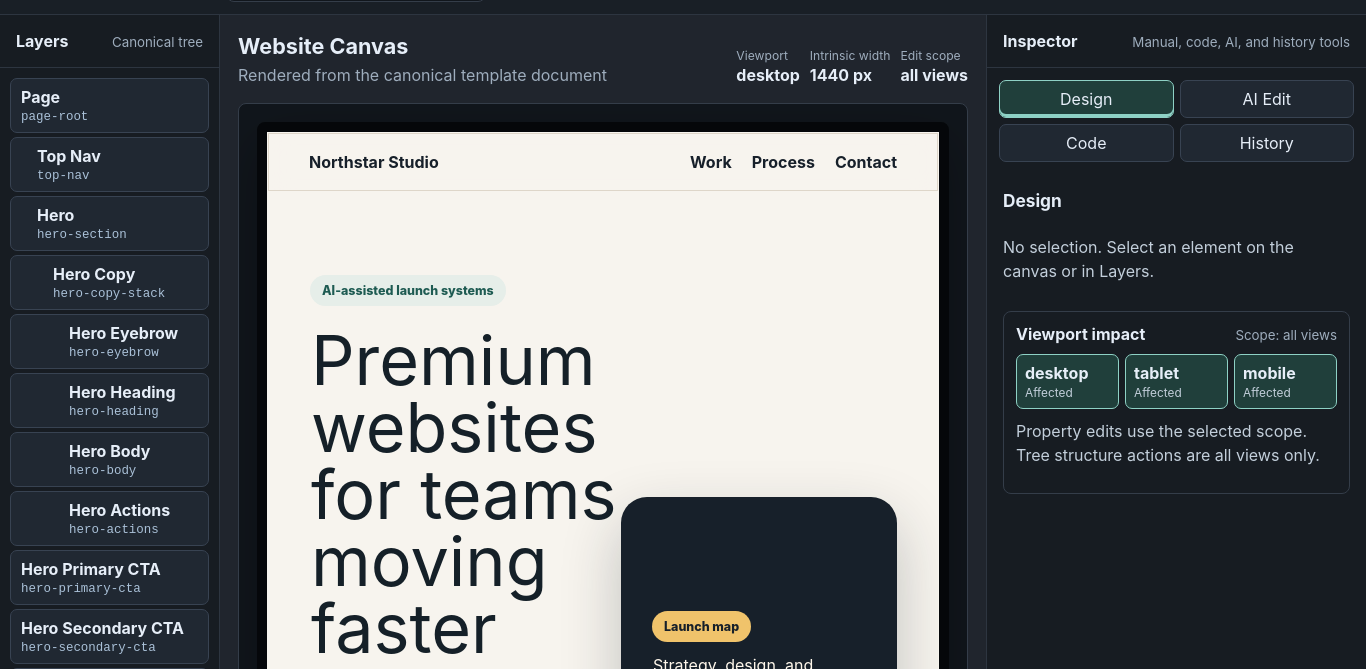
Test: EditorShell › replaces the selected layer on a normal click
The width and height of the screenshot is (1366, 669).
Click the button with aria-label "Hero Heading, hero-heading" at (110,400), box x1=10 y1=373 x2=209 y2=428
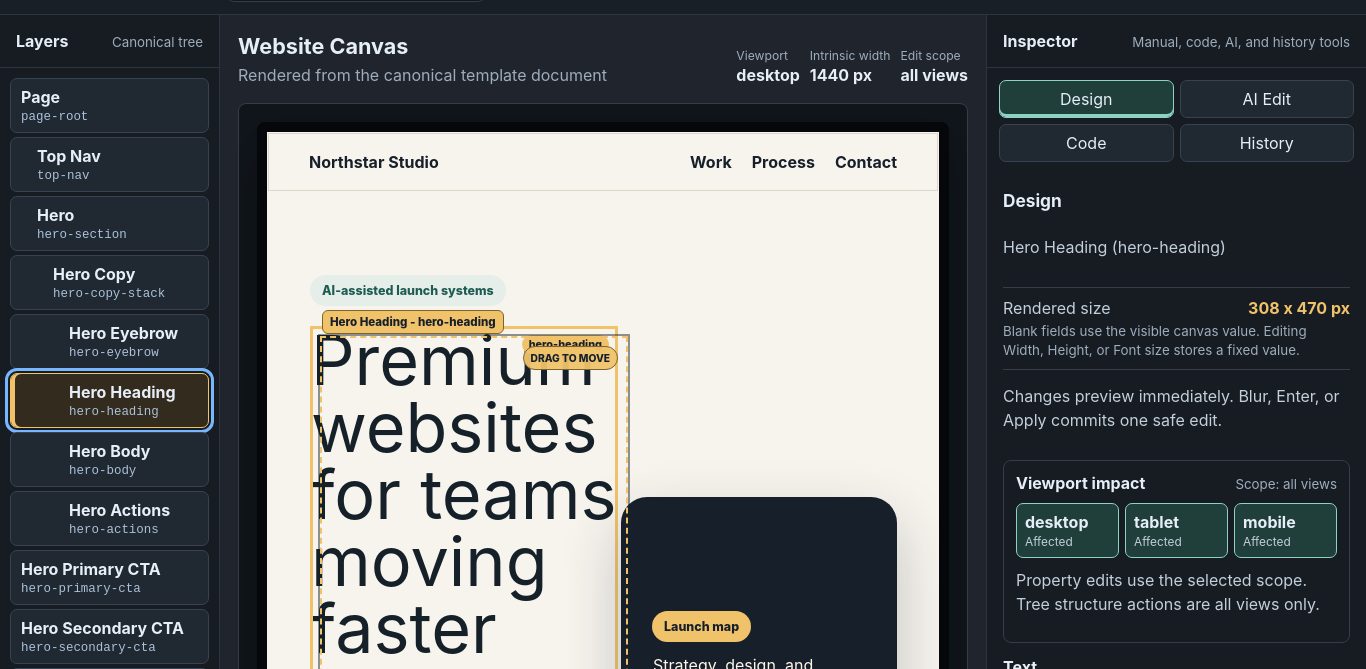
Click the button with aria-label "Hero Body, hero-body" at (110,460), box x1=10 y1=432 x2=209 y2=487
(page scrolled)
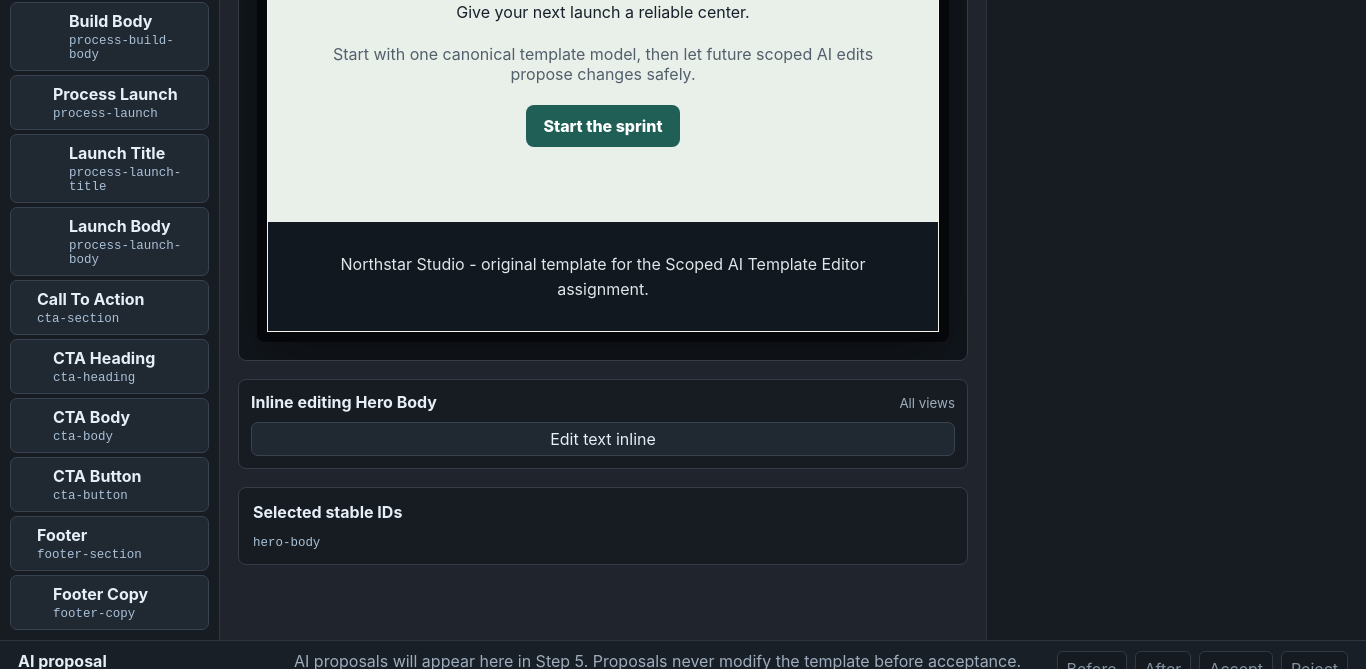
Expected: the text "hero-heading" is not shown
Expected: the text "hero-body" is shown, x1=253 y1=536 x2=320 y2=550
